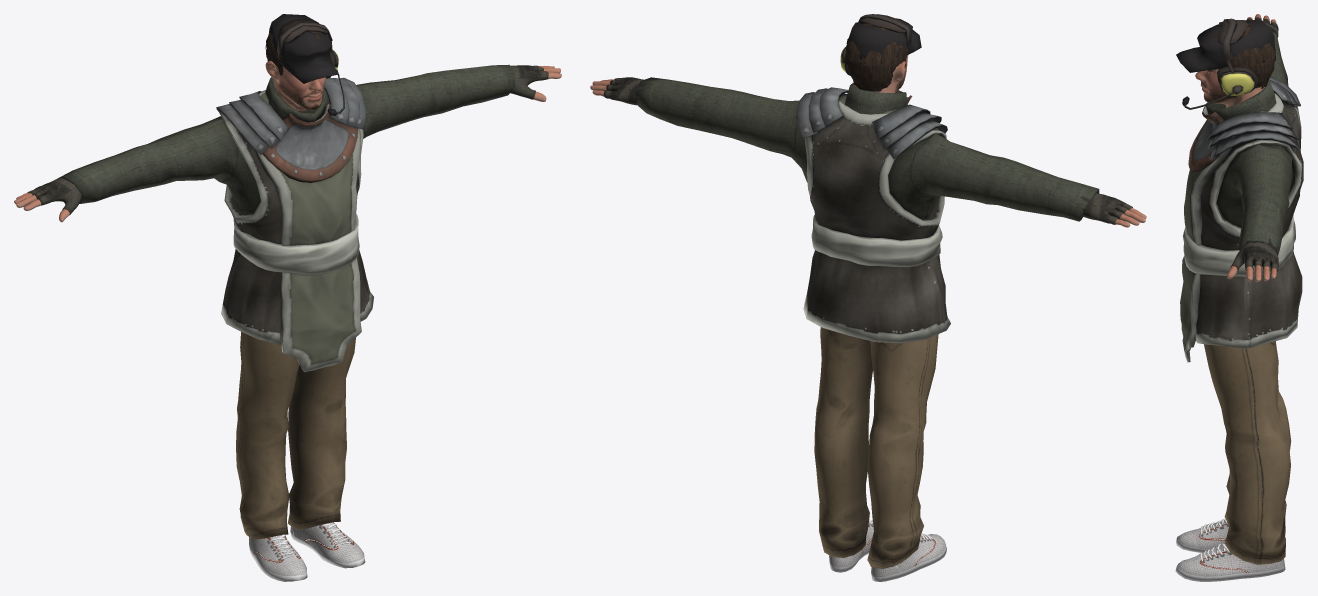
Rendered from assalt_test.obj.
3 views of the same model, side by side, from view 1: azimuth 30°, elevation 25°; view 2: azimuth 150°, elevation 25°; view 3: azimuth 270°, elevation 25° (orthographic).
Visible parts, largest first — view 1: Tops, Bottoms, Shoes, Hats, Body, Gloves; view 2: Tops, Bottoms, Hats, Shoes, Hair, Gloves, Body; view 3: Tops, Bottoms, Hats, Shoes, Body, Hair, Gloves.
Part boxes in pixels (box(x1,y1,x2,y2)): Tops: box(60, 64, 514, 372); Bottoms: box(236, 332, 355, 539); Shoes: box(249, 522, 365, 581); Hats: box(269, 14, 344, 115); Body: box(14, 61, 561, 525); Gloves: box(27, 65, 548, 215); Tops: box(635, 77, 1099, 343); Bottoms: box(814, 327, 938, 568); Hats: box(840, 14, 921, 75); Shoes: box(829, 520, 946, 581); Hair: box(845, 23, 908, 91); Gloves: box(603, 77, 1132, 224); Body: box(590, 55, 1146, 227); Tops: box(1180, 29, 1303, 362); Bottoms: box(1204, 341, 1291, 564); Hats: box(1176, 18, 1275, 109); Shoes: box(1175, 518, 1285, 581); Body: box(1195, 14, 1276, 281); Hair: box(1212, 23, 1275, 88); Gloves: box(1230, 17, 1278, 271).
Size of the model in its own units: 9.7 by 9.08 by 1.96.
Materials: 7 (7 with a texture image).
